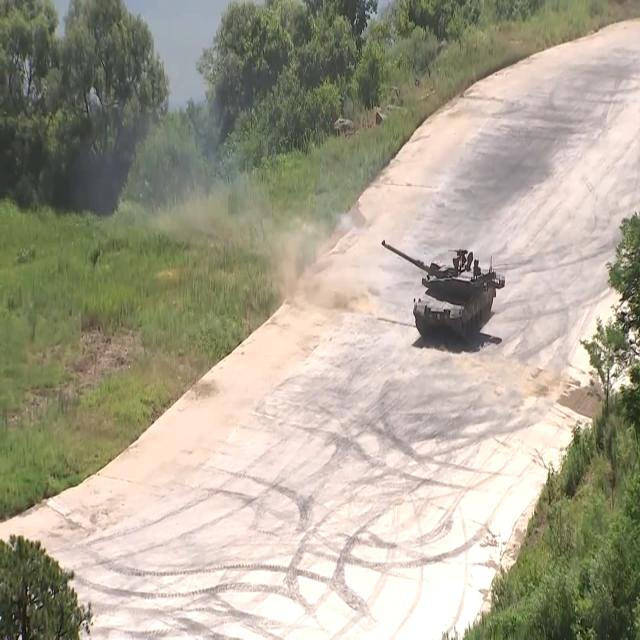korea tank: (382, 236, 506, 340)
